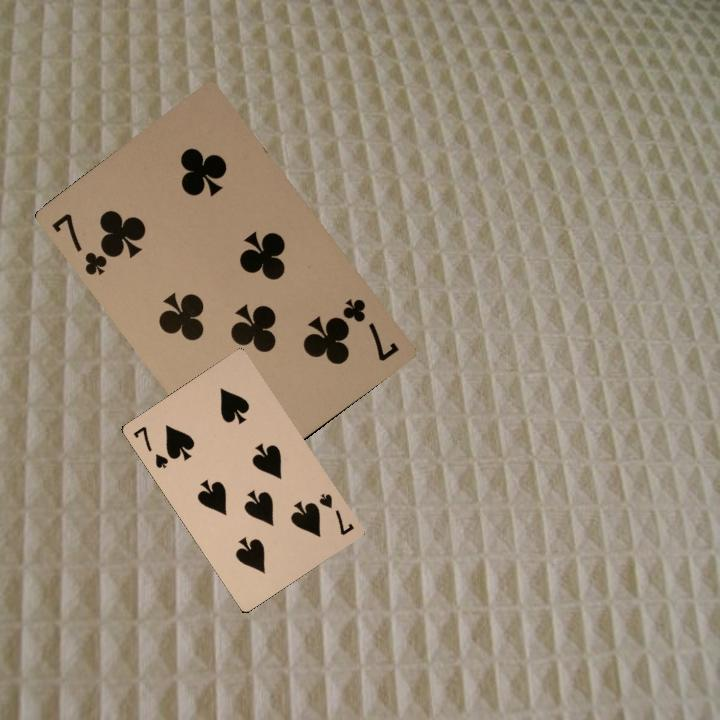7c: (47, 209, 117, 278), (338, 294, 402, 364)
7s: (129, 422, 171, 471), (315, 489, 357, 538)
